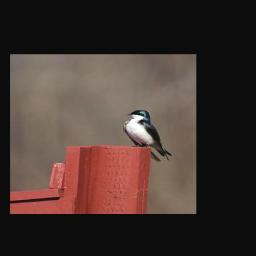Swallow: (122, 109, 172, 161)
